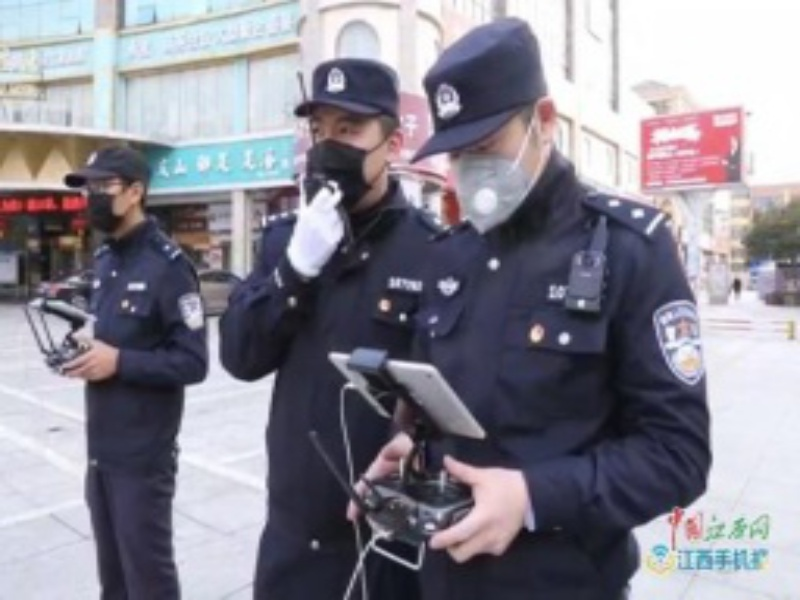ManaoArotava: (416, 29, 567, 249), (289, 58, 402, 229), (70, 138, 141, 244)
